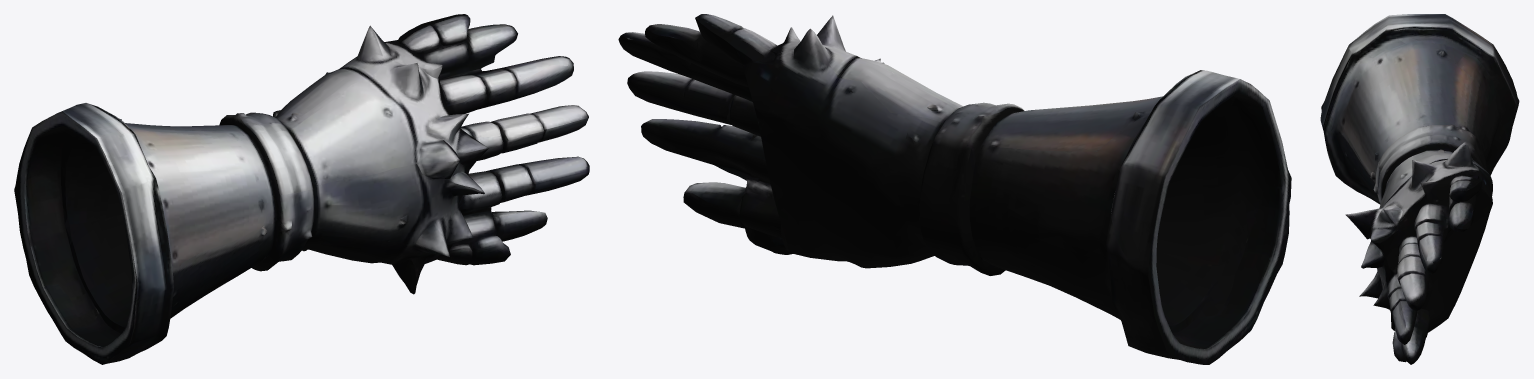
File: guard_gauntlets.glb
3 renders of one model, left to right at view 1: azimuth 30°, elevation 25°; view 2: azimuth 150°, elevation 25°; view 3: azimuth 270°, elevation 25°, orthographic. The views are drawn at different scales.
Parts seen in each view (by area): view 1: world; view 2: world; view 3: world.
Part boxes in pixels (bbox=[...]): world: bbox=[14, 14, 589, 364]; world: bbox=[618, 14, 1291, 364]; world: bbox=[1320, 14, 1519, 364].
Bounding box in the file's own units: 0.32 × 0.1431 × 0.1345.
1 material, 1 textured.
